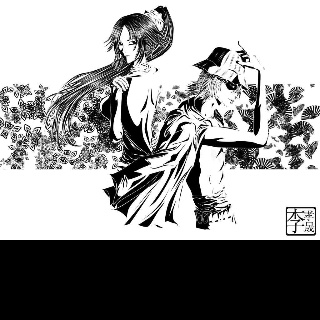without_mask: (215, 79, 239, 105)
